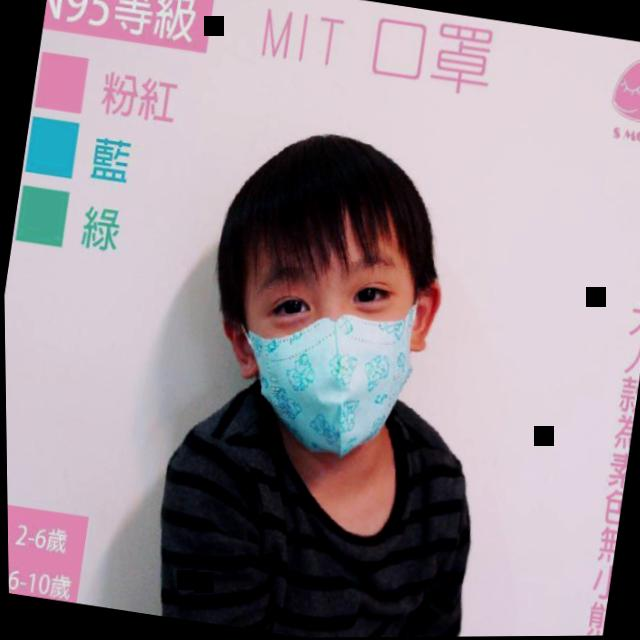Mask: (176, 108, 475, 485)
